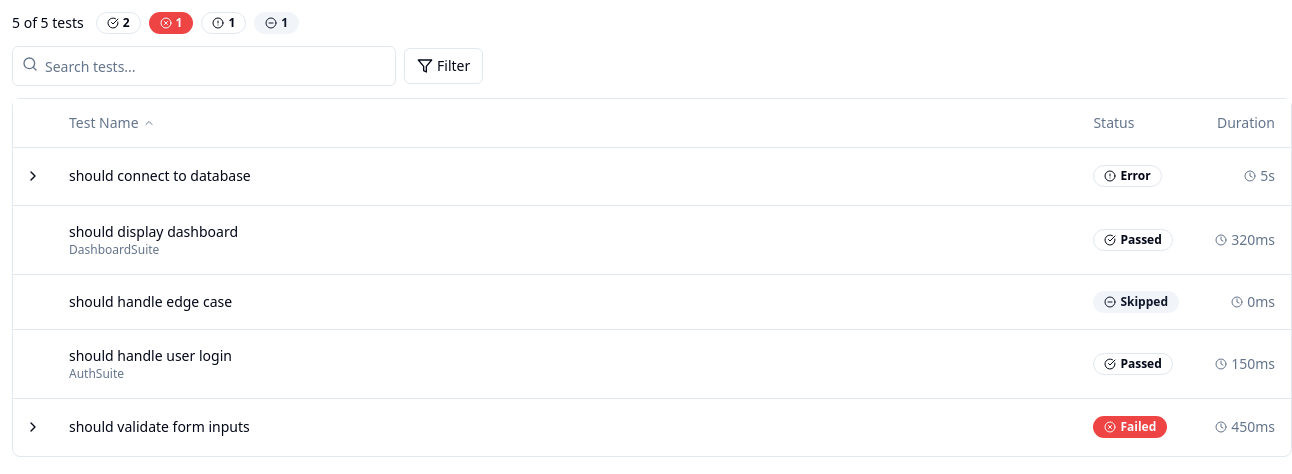
Test case: TestResultsTable › Empty State › shows 'No test results found' when search yields no results
The image size is (1292, 474).
Type "nonexistent-test-name-xyz" into the field with placeholder "Search tests..." at (204, 66), box [12,46,396,86]
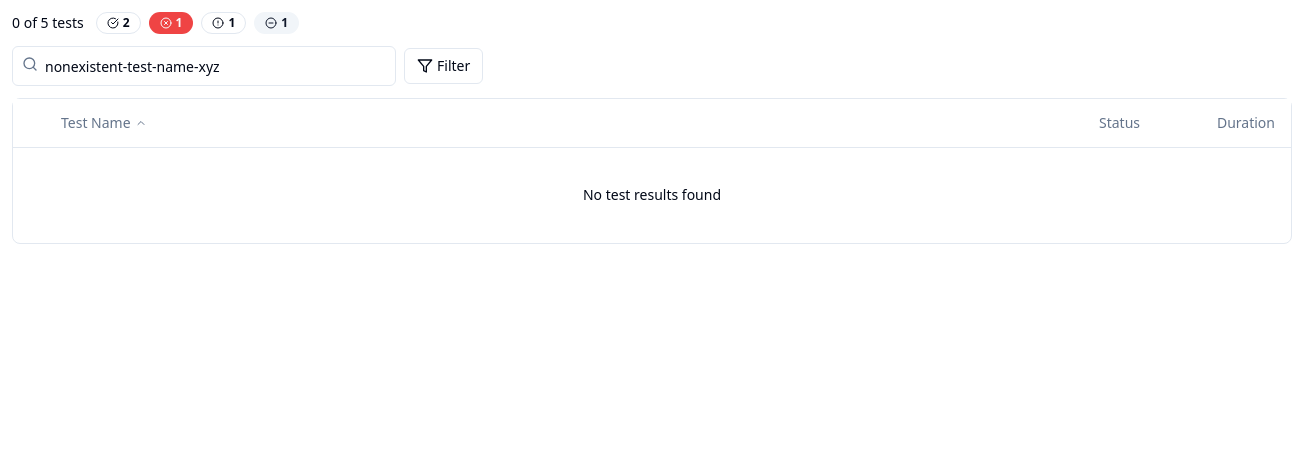
Expected: the text "No test results found" is shown, [13,147,1291,243]
